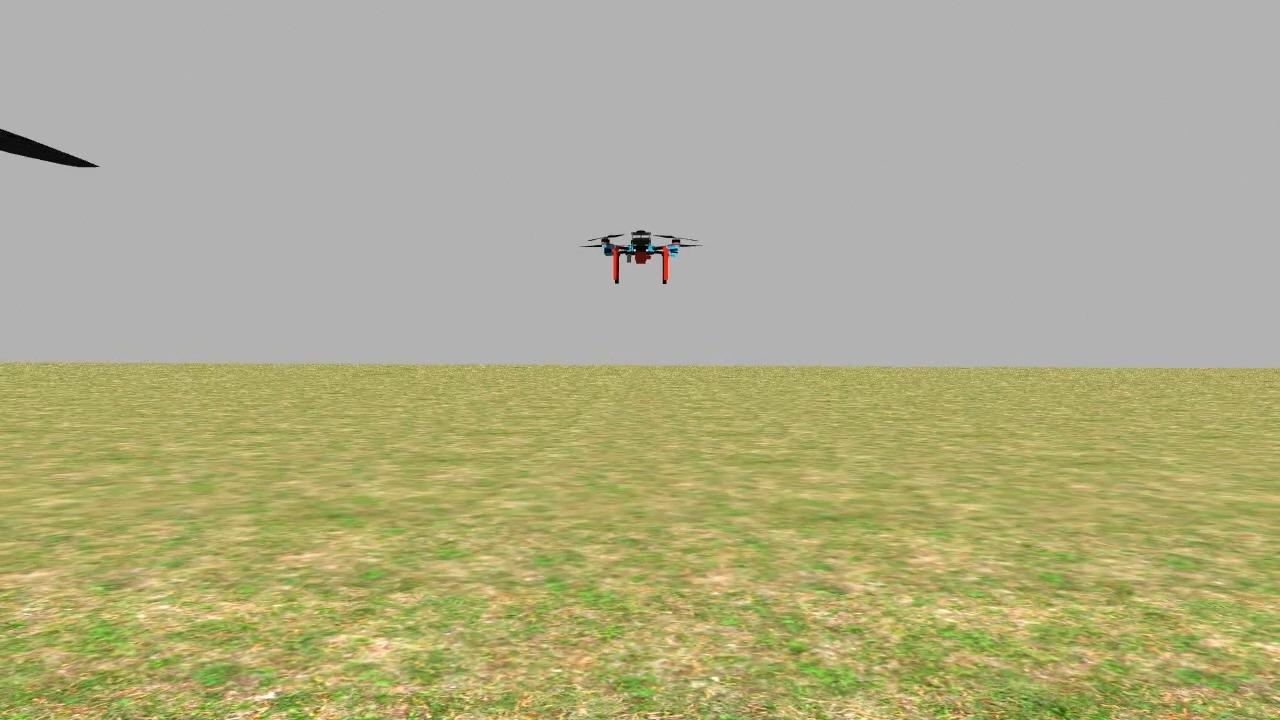UAV: (576, 219, 708, 293)
